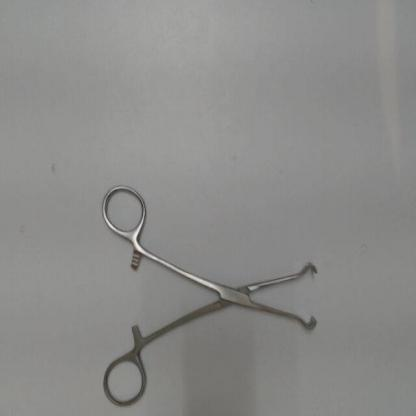Babcock Tissue Forceps: (97, 180, 322, 410)
